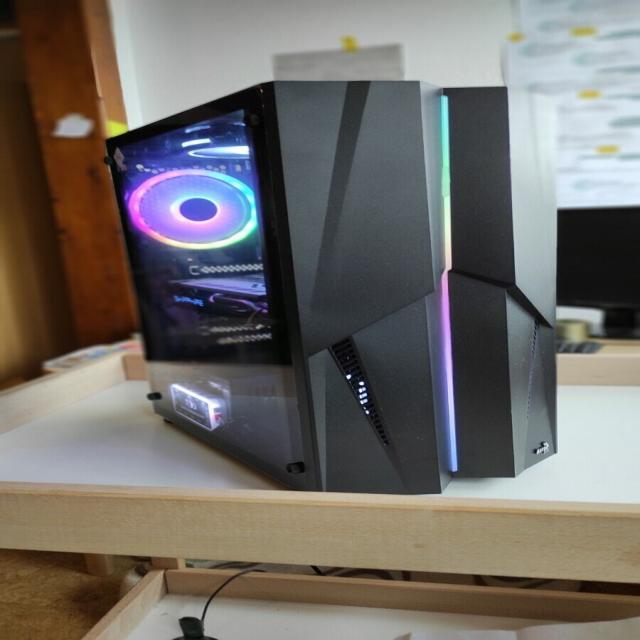Desktop-PC: (87, 76, 559, 507)
